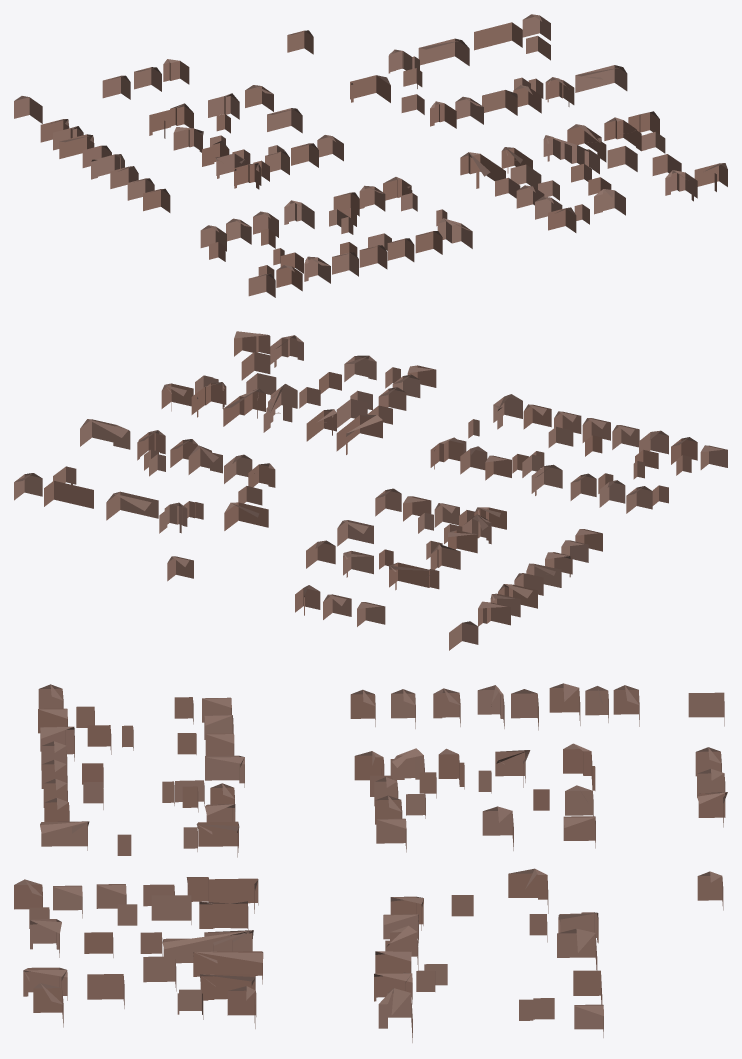
Rendered from c_1644_17828_buildings_residential.glb.
The picture shows the model from 3 angles, top to bottom: view 1: azimuth 30°, elevation 25°; view 2: azimuth 150°, elevation 25°; view 3: azimuth 270°, elevation 25°; orthographic projection. The views are drawn at different scales.
Parts seen in each view (by area): view 1: geometry_0; view 2: geometry_0; view 3: geometry_0.
Part boxes in pixels (x1,y1,x2,y2): geometry_0: (14, 14, 727, 297); geometry_0: (14, 331, 727, 650); geometry_0: (14, 683, 727, 1042).
Bounding box in the file's own units: 268 × 10.94 × 243.
